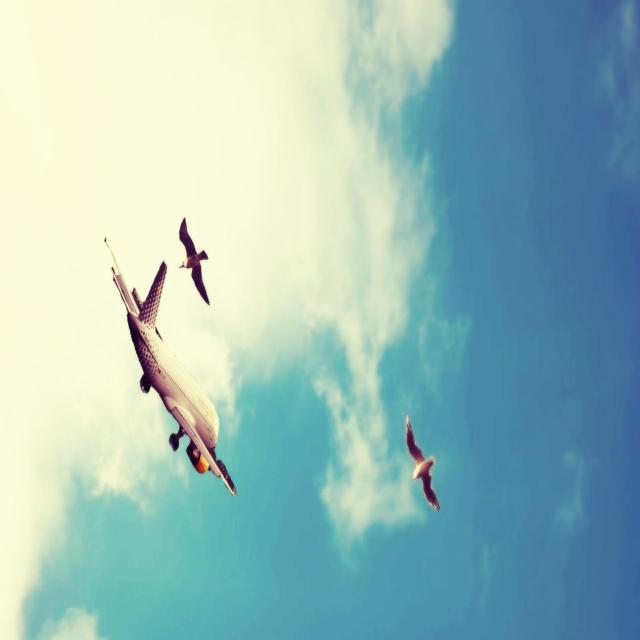airplane: (103, 235, 237, 497)
